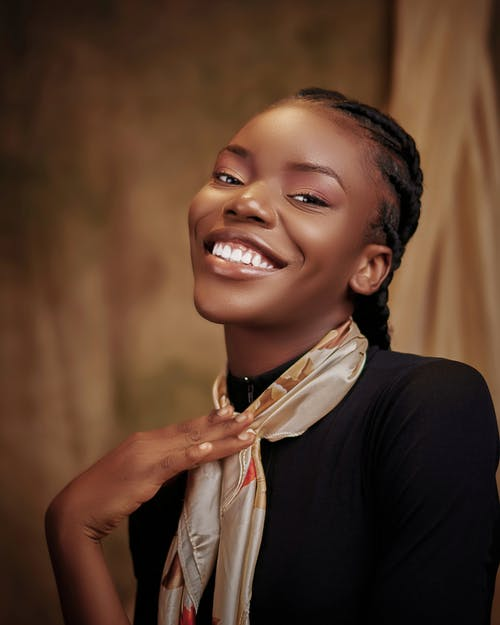person: (185, 86, 421, 346)
